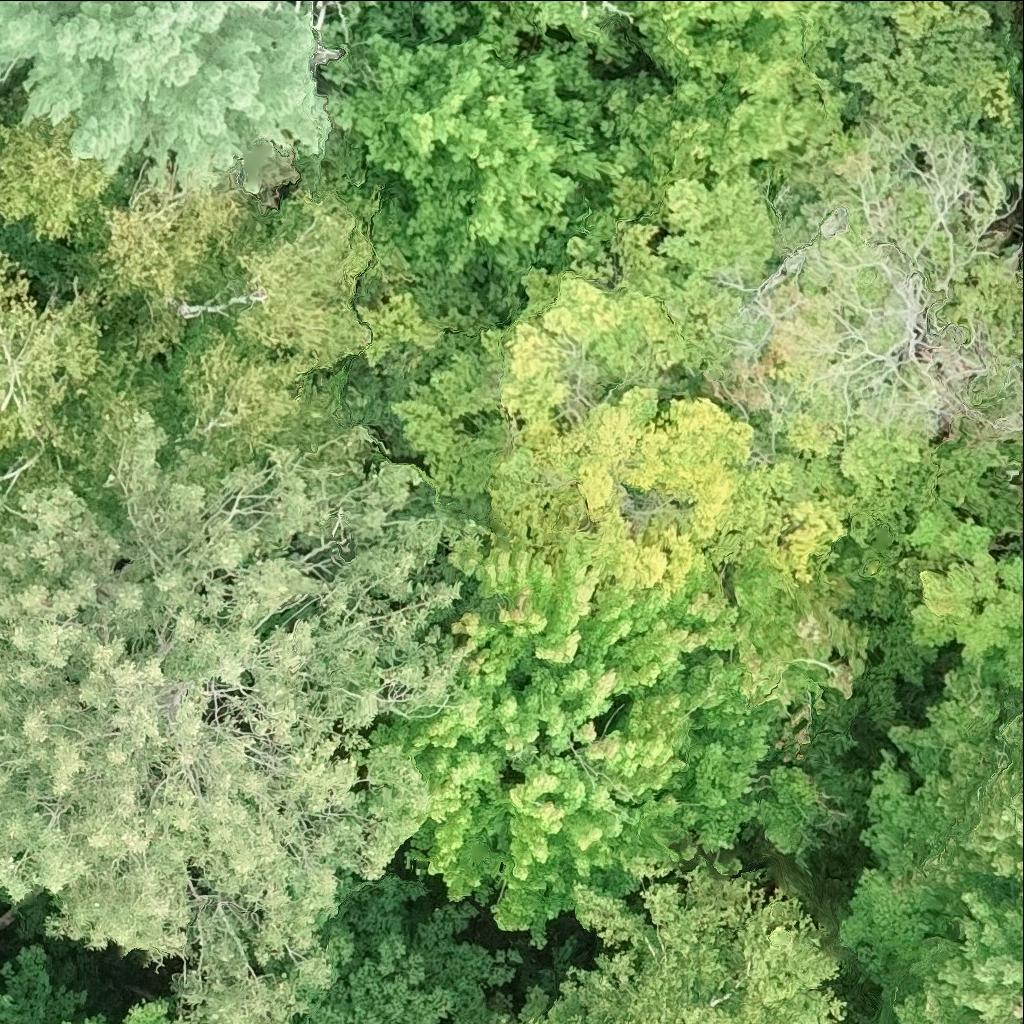crown: (0, 410, 470, 1023), (368, 535, 751, 948), (667, 114, 1023, 514), (498, 273, 845, 607), (840, 504, 1023, 983), (347, 18, 624, 287), (672, 545, 871, 867), (0, 0, 329, 189), (562, 858, 847, 1023), (287, 867, 525, 1023), (173, 191, 374, 369), (840, 0, 1023, 172), (0, 250, 105, 502), (913, 711, 1023, 936), (178, 328, 349, 472), (609, 174, 775, 314), (98, 174, 243, 309), (881, 887, 1023, 1023), (0, 103, 116, 240), (677, 11, 768, 103), (510, 985, 587, 1023), (621, 1006, 730, 1023), (124, 1002, 201, 1023), (602, 0, 632, 16), (316, 0, 328, 29), (572, 0, 590, 18), (87, 1014, 107, 1023), (1020, 493, 1023, 502), (65, 1021, 74, 1023)
